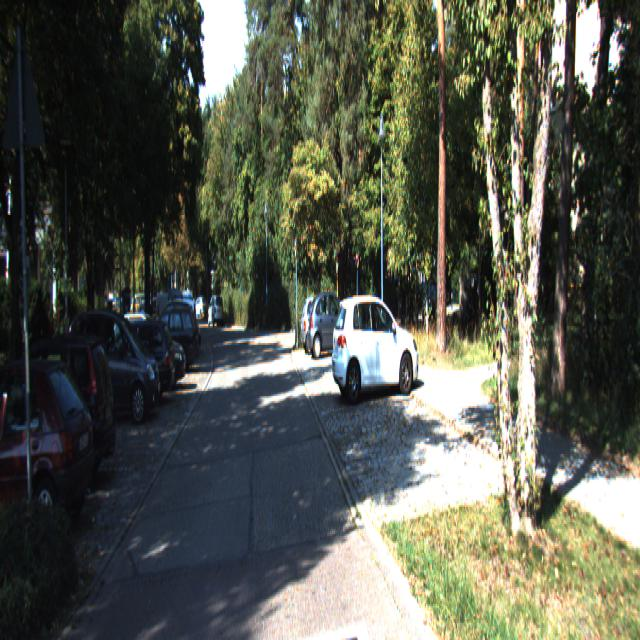Car: (0, 330, 120, 510), (0, 352, 98, 553), (60, 304, 159, 432), (330, 294, 419, 406), (87, 315, 176, 410), (138, 306, 198, 377), (307, 288, 356, 359)
